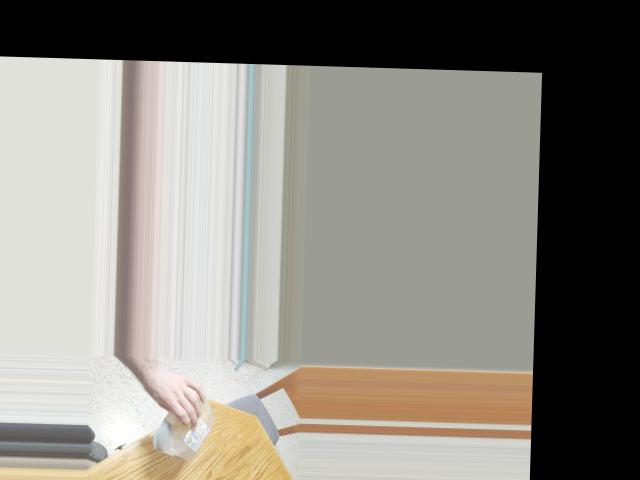cheese: (169, 396, 212, 455)
